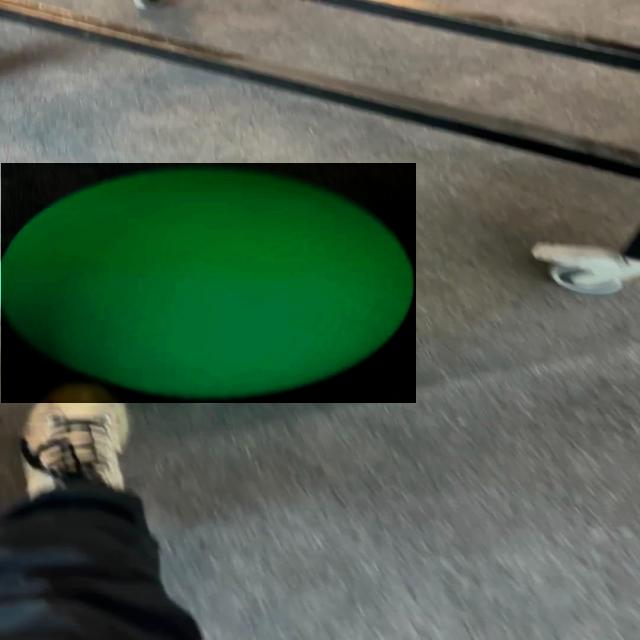Algae: (1, 163, 416, 403)
